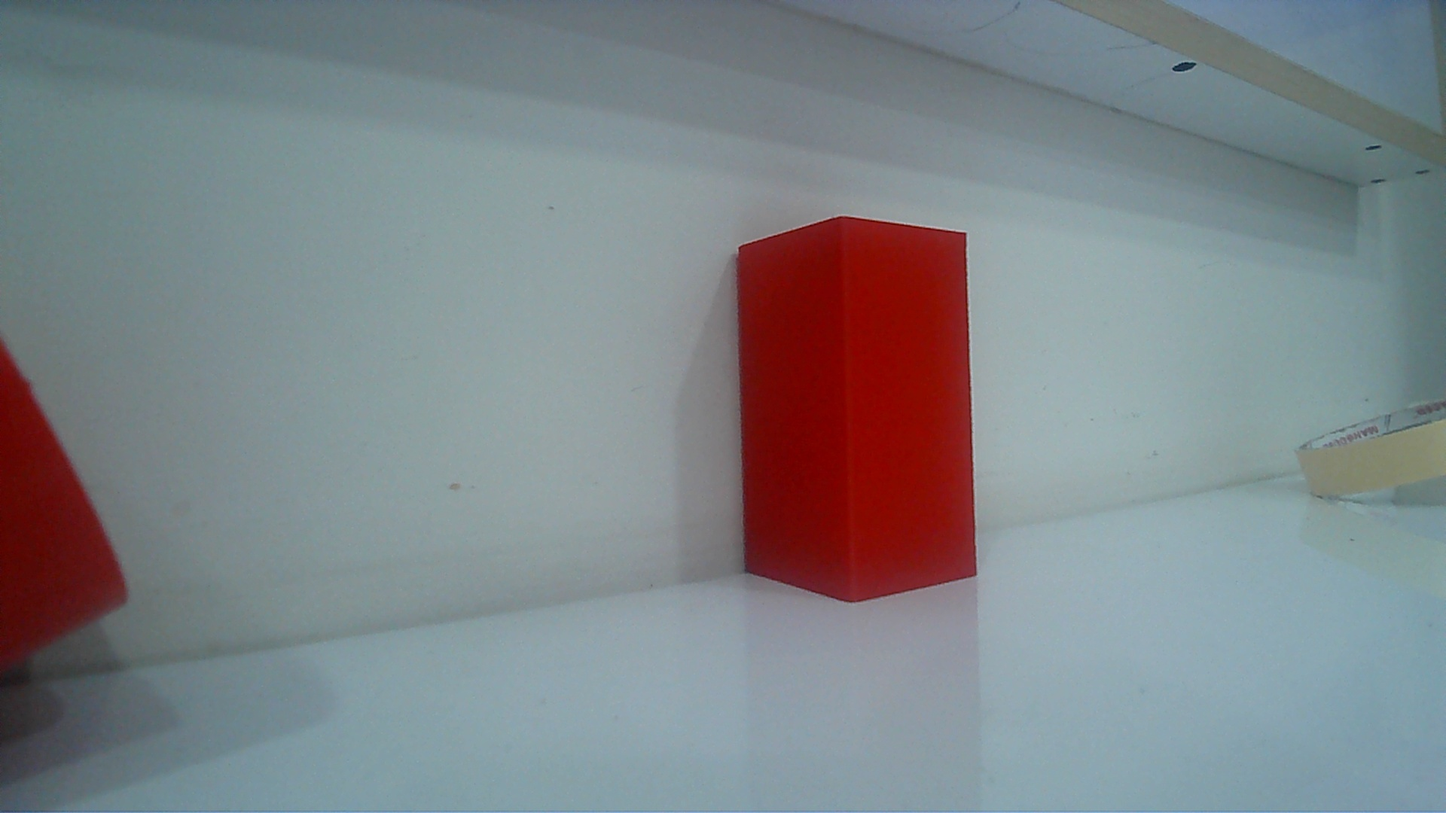red: (720, 210, 997, 614)
